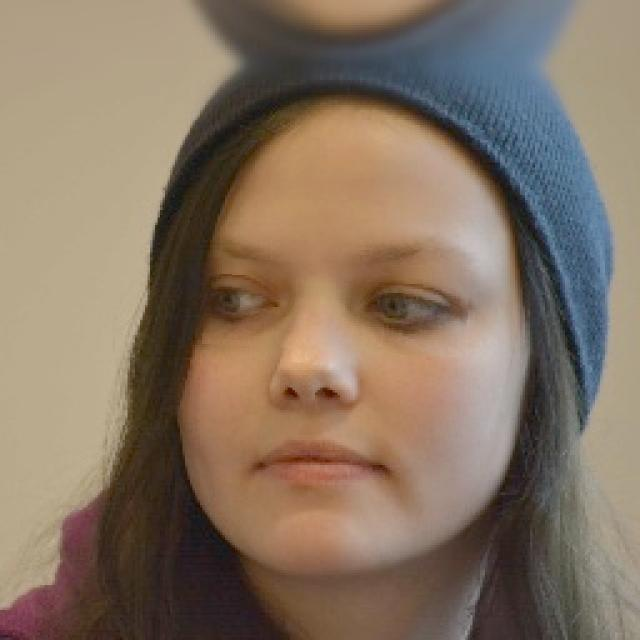no-glasses: (203, 261, 469, 354)
